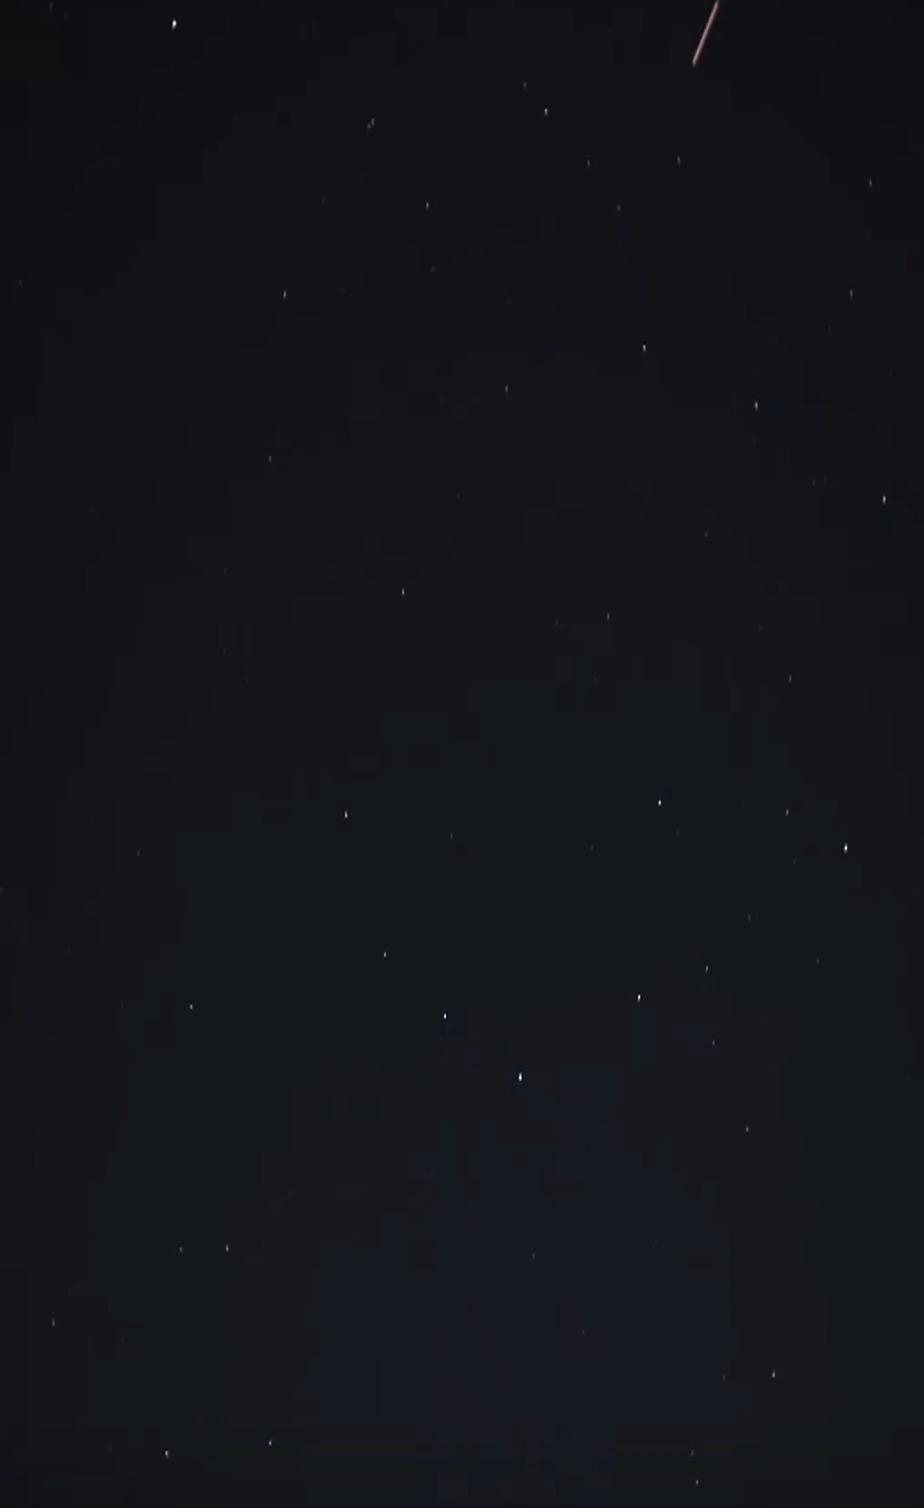meteorite: (647, 0, 776, 76)
